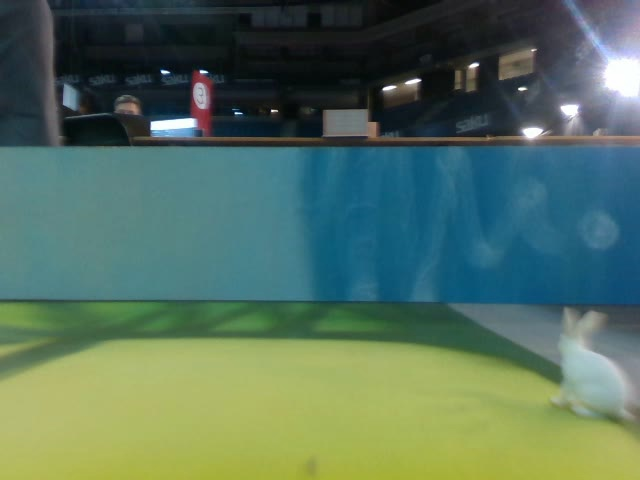toy: (551, 305, 635, 421)
